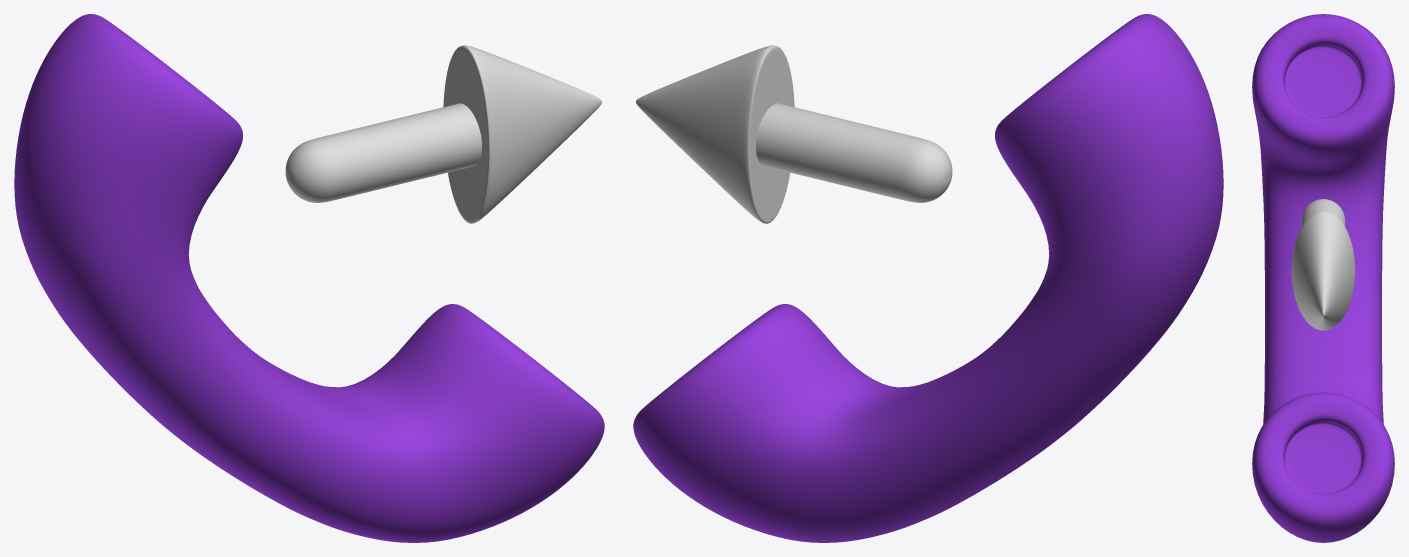
The model's file is call-out.fbx.
3 views of the same model, side by side, from view 1: azimuth 30°, elevation 25°; view 2: azimuth 150°, elevation 25°; view 3: azimuth 270°, elevation 25° (orthographic). The views are drawn at different scales.
Visible parts, largest first — view 1: Phone Calling; view 2: Phone Calling; view 3: Phone Calling.
Boxes of the visible parts, <box> form: Phone Calling: <box>14,14,604,542</box>; Phone Calling: <box>633,14,1223,542</box>; Phone Calling: <box>1252,14,1394,542</box>.
Size of the model in its own units: 182 by 177 by 57.44.
